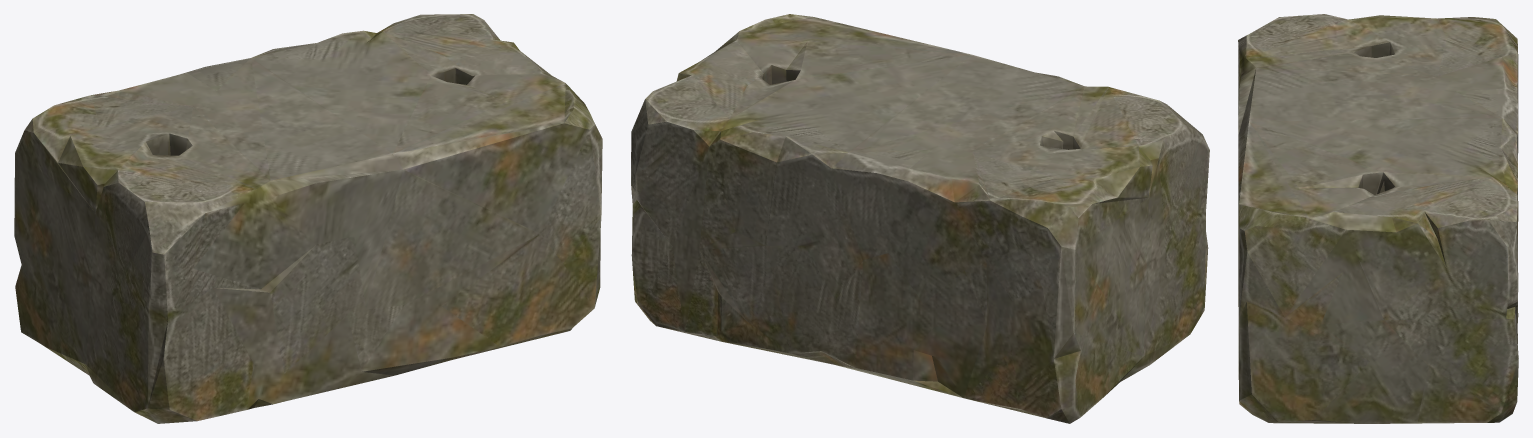
Rendered from sandstone-block.glb.
3 views of the same model, side by side, from view 1: azimuth 30°, elevation 25°; view 2: azimuth 150°, elevation 25°; view 3: azimuth 270°, elevation 25° (orthographic). The views are drawn at different scales.
Parts seen in each view (by area): view 1: output_unwrapped; view 2: output_unwrapped; view 3: output_unwrapped.
Boxes of the visible parts, x1,y1,x2,y2 form: output_unwrapped: [14, 14, 602, 423]; output_unwrapped: [631, 14, 1209, 423]; output_unwrapped: [1238, 14, 1518, 423].
Size of the model in its own units: 1.2 by 0.565 by 0.6804.
1 material, 1 textured.
